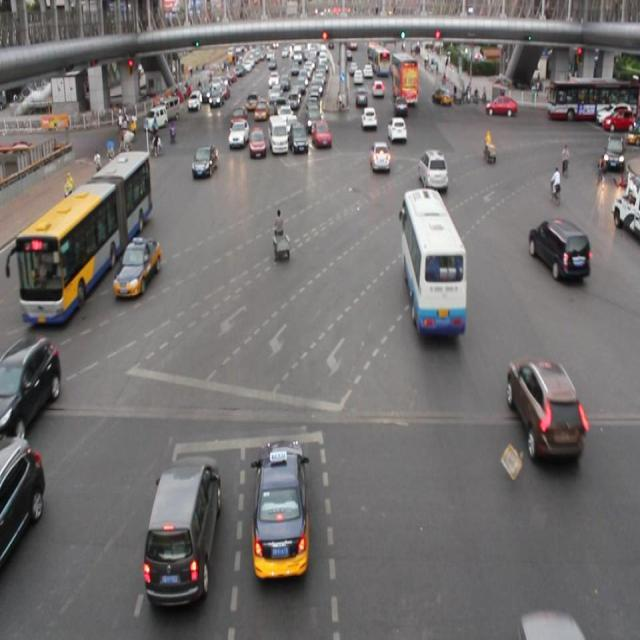car: (252, 436, 311, 582), (506, 357, 581, 460), (0, 334, 62, 428), (0, 433, 42, 565), (528, 218, 590, 282), (115, 237, 160, 300), (416, 147, 446, 190), (192, 144, 218, 180), (368, 139, 391, 174), (247, 126, 266, 162), (311, 118, 331, 150), (228, 117, 248, 148), (289, 122, 308, 154), (387, 117, 405, 143), (360, 105, 377, 131)
truck: (145, 456, 218, 604), (268, 116, 288, 155)
van: (23, 150, 148, 322), (402, 191, 464, 340)
